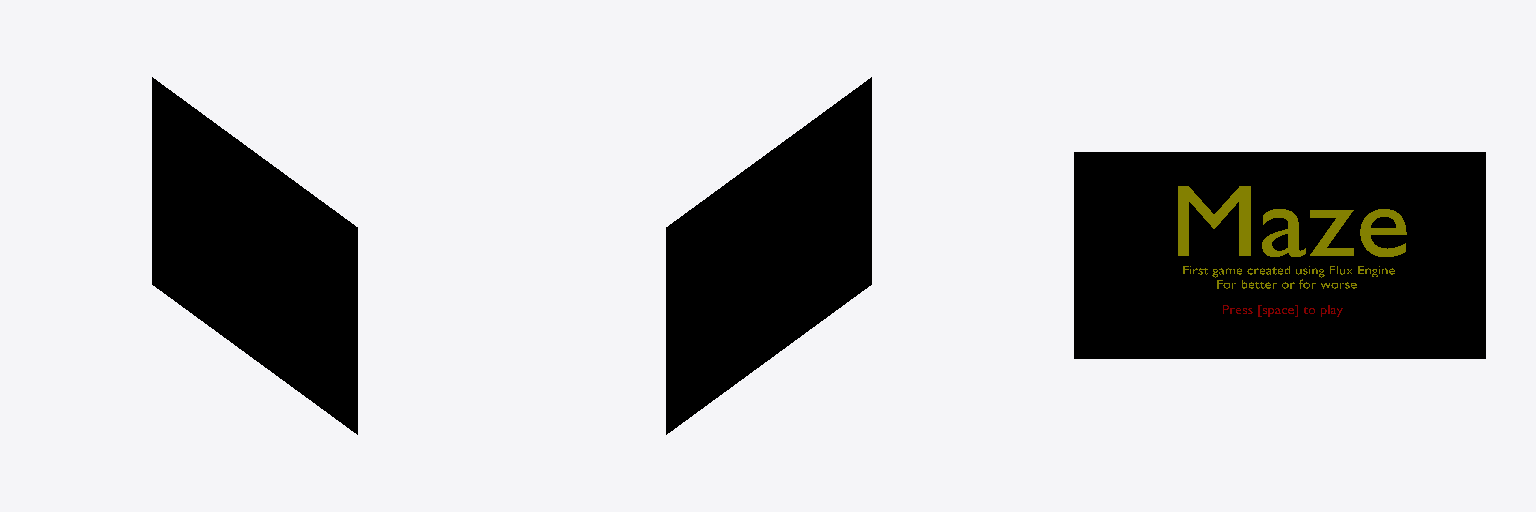
The model's file is SplashScreen.obj.
The picture shows the model from 3 angles: view 1: azimuth 30°, elevation 25°; view 2: azimuth 150°, elevation 25°; view 3: azimuth 270°, elevation 25°; orthographic projection.
Parts seen in each view (by area): view 1: Plane; view 2: Plane; view 3: Plane, Text, Text.001.
Boxes of the visible parts, x1,y1,x2,y2 form: Plane: [152, 77, 357, 434]; Plane: [666, 77, 871, 434]; Plane: [1074, 152, 1485, 358]; Text: [1178, 186, 1406, 256]; Text.001: [1183, 266, 1394, 277].
Size of the model in its own units: 0.0168 by 2 by 3.59.